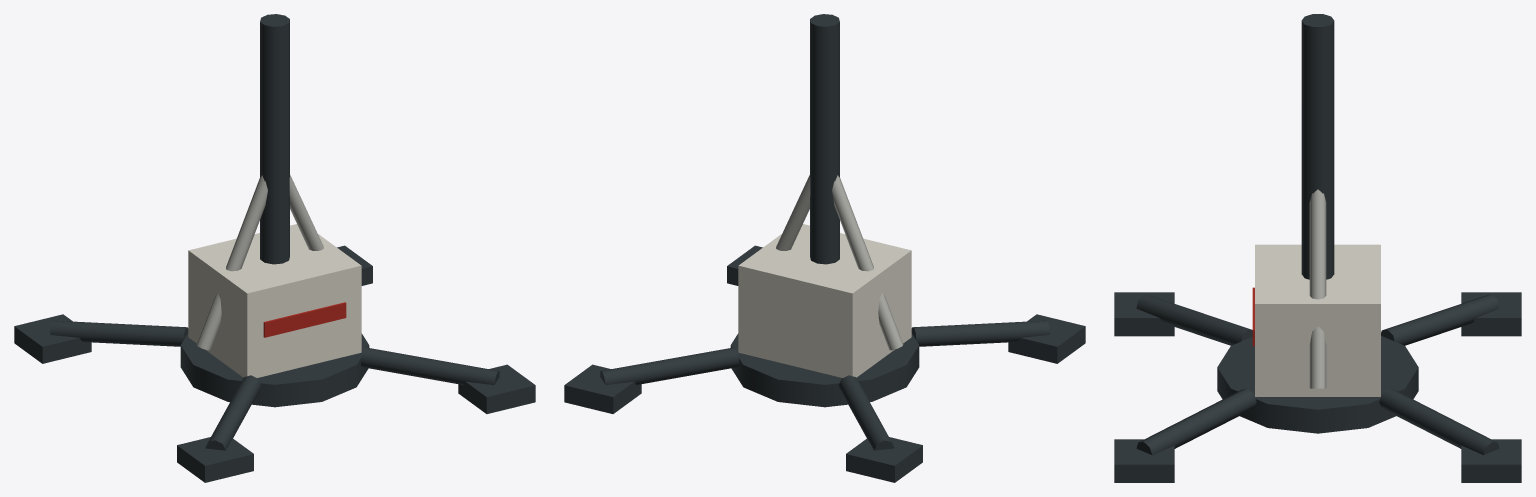
3 renders of one model, left to right at view 1: azimuth 30°, elevation 25°; view 2: azimuth 150°, elevation 25°; view 3: azimuth 270°, elevation 25°, orthographic. The views are drawn at different scales.
Parts seen in each view (by area): view 1: radar-station-fleet-machine, radar-station-fleet-armor, radar-station-fleet-edge, radar-station-fleet-red; view 2: radar-station-fleet-machine, radar-station-fleet-armor, radar-station-fleet-edge; view 3: radar-station-fleet-machine, radar-station-fleet-armor, radar-station-fleet-edge.
Part boxes in pixels (x1,y1,x2,y2): radar-station-fleet-machine: [14, 14, 535, 482]; radar-station-fleet-armor: [188, 224, 361, 377]; radar-station-fleet-edge: [196, 175, 323, 350]; radar-station-fleet-red: [263, 302, 346, 337]; radar-station-fleet-machine: [564, 14, 1085, 482]; radar-station-fleet-armor: [738, 224, 911, 377]; radar-station-fleet-edge: [776, 175, 903, 350]; radar-station-fleet-machine: [1114, 14, 1521, 482]; radar-station-fleet-armor: [1255, 244, 1380, 396]; radar-station-fleet-edge: [1309, 189, 1326, 388].
Bounding box in the file's own units: 20 × 20.37 × 20.
